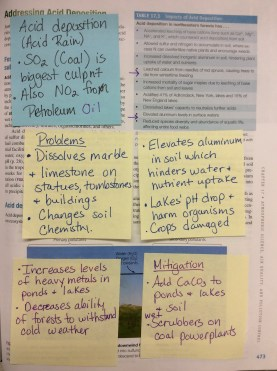Note: (10, 13, 121, 124), (23, 128, 133, 236), (137, 129, 248, 236), (140, 252, 249, 360), (10, 258, 118, 365)
